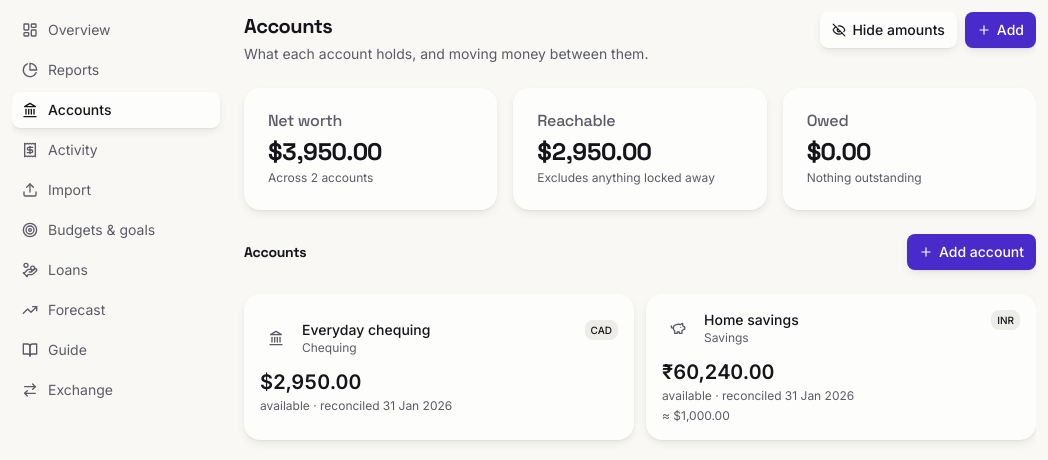
Test: the finance workspace › renders Overview with no placeholder
The width and height of the screenshot is (1048, 460).
Click the button "Overview".
click(116, 30)  # box [12,12,220,48]
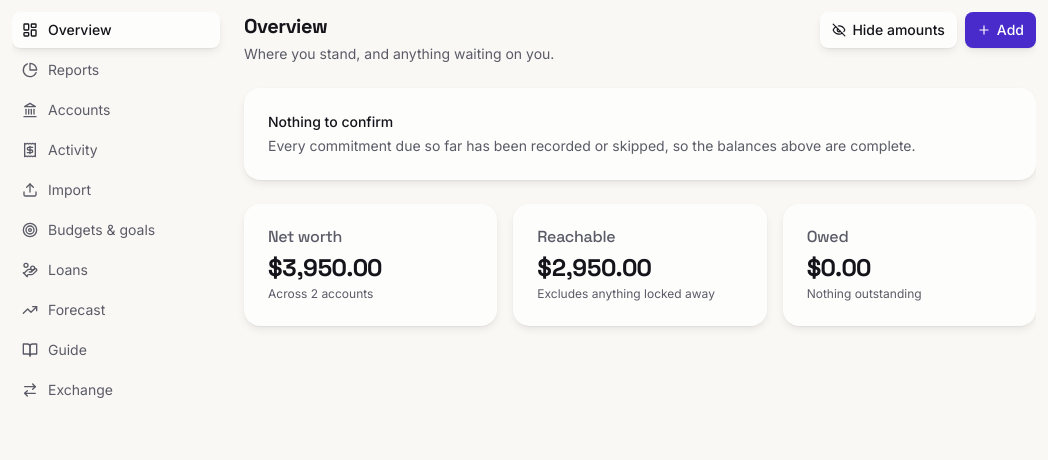
Now the heading "Overview" is shown, box [244,13,327,39]
